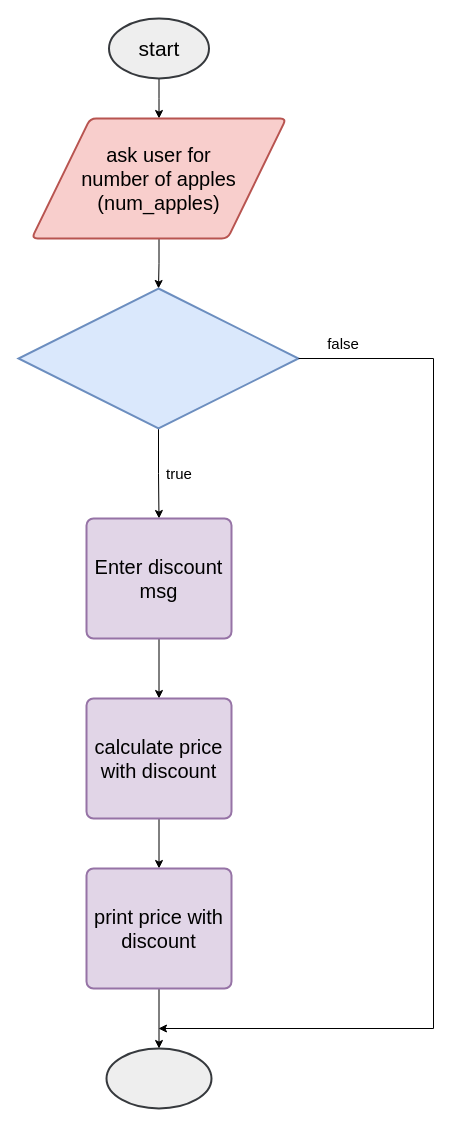
Some shapes in this 459 by 1126 pixel diagram are drawn without their labels. Here are the shapes that lost their labels. From the top down, the box of each, then its label:
(17, 287, 299, 429): check if num_apples > 10
(105, 1047, 212, 1109): end
